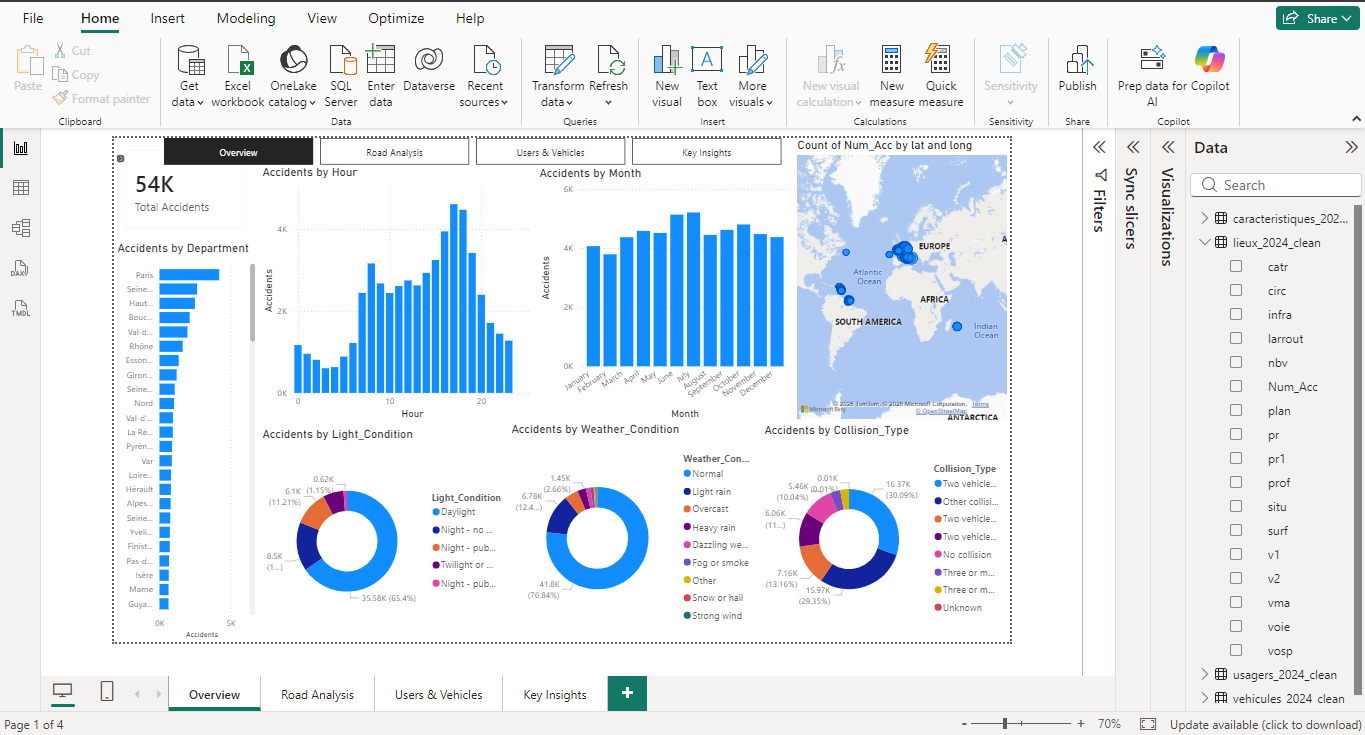

The dashboard page shown, as its layout file describes it:
{"tool":"powerbi","page":{"name":"Page 1","canvas":[1280,720],"ordinal":0},"visuals":[{"type":"cardVisual","fields":{"Data":["Count(caracteristiques_2024_clean.Num_Acc)"]},"box":[0,0,206.5,147.3],"z":0},{"type":"clusteredColumnChart","fields":{"Category":["caracteristiques_2024_clean.Month_Name"],"Y":["CountNonNull(caracteristiques_2024_clean.Month_Name)"]},"box":[602.9,0,368.6,407.1],"z":1000},{"type":"actionButton","box":[0,0,100,40],"z":2000},{"type":"clusteredColumnChart","fields":{"Category":["caracteristiques_2024_clean.Hour"],"Y":["CountNonNull(caracteristiques_2024_clean.Num_Acc)"]},"box":[207.1,0,395.7,407.1],"z":3000},{"type":"clusteredBarChart","fields":{"Category":["caracteristiques_2024_clean.Department"],"Y":["CountNonNull(caracteristiques_2024_clean.Num_Acc)"]},"box":[0,147.1,207.1,572.9],"z":4000},{"type":"map","fields":{"X":["caracteristiques_2024_clean.long"],"Y":["caracteristiques_2024_clean.lat"],"Size":["CountNonNull(caracteristiques_2024_clean.Num_Acc)"]},"box":[971.4,0,308.6,407.1],"z":5000},{"type":"donutChart","fields":{"Category":["caracteristiques_2024_clean.Weather_Condition"],"Y":["CountNonNull(caracteristiques_2024_clean.Num_Acc)"]},"box":[562.9,405.7,361.4,312.9],"z":6000},{"type":"donutChart","fields":{"Category":["caracteristiques_2024_clean.Light_Condition"],"Y":["CountNonNull(caracteristiques_2024_clean.Num_Acc)"]},"box":[207.1,412.9,355.7,307.1],"z":7000},{"type":"donutChart","fields":{"Category":["caracteristiques_2024_clean.Collision_Type"],"Y":["CountNonNull(caracteristiques_2024_clean.Num_Acc)"]},"box":[924.3,407.1,355.7,312.9],"z":8000}]}

Visuals, with their boxes on the page's 1280x720 design canvas (x1, y1, x2, y2). These are canvas units, not pixel positions in the 1365x735 screenshot, which may show the page scaled, cropped or inside an application window:
cardVisual - Count(caracteristiques_2024_clean.Num_Acc): pyautogui.locateOnScreen(0, 0, 206, 147)
clusteredColumnChart - caracteristiques_2024_clean.Month_Name x CountNonNull(caracteristiques_2024_clean.Month_Name): pyautogui.locateOnScreen(603, 0, 972, 407)
actionButton: pyautogui.locateOnScreen(0, 0, 100, 40)
clusteredColumnChart - caracteristiques_2024_clean.Hour x CountNonNull(caracteristiques_2024_clean.Num_Acc): pyautogui.locateOnScreen(207, 0, 603, 407)
clusteredBarChart - caracteristiques_2024_clean.Department x CountNonNull(caracteristiques_2024_clean.Num_Acc): pyautogui.locateOnScreen(0, 147, 207, 720)
map - caracteristiques_2024_clean.long x caracteristiques_2024_clean.lat: pyautogui.locateOnScreen(971, 0, 1280, 407)
donutChart - caracteristiques_2024_clean.Weather_Condition x CountNonNull(caracteristiques_2024_clean.Num_Acc): pyautogui.locateOnScreen(563, 406, 924, 719)
donutChart - caracteristiques_2024_clean.Light_Condition x CountNonNull(caracteristiques_2024_clean.Num_Acc): pyautogui.locateOnScreen(207, 413, 563, 720)
donutChart - caracteristiques_2024_clean.Collision_Type x CountNonNull(caracteristiques_2024_clean.Num_Acc): pyautogui.locateOnScreen(924, 407, 1280, 720)
